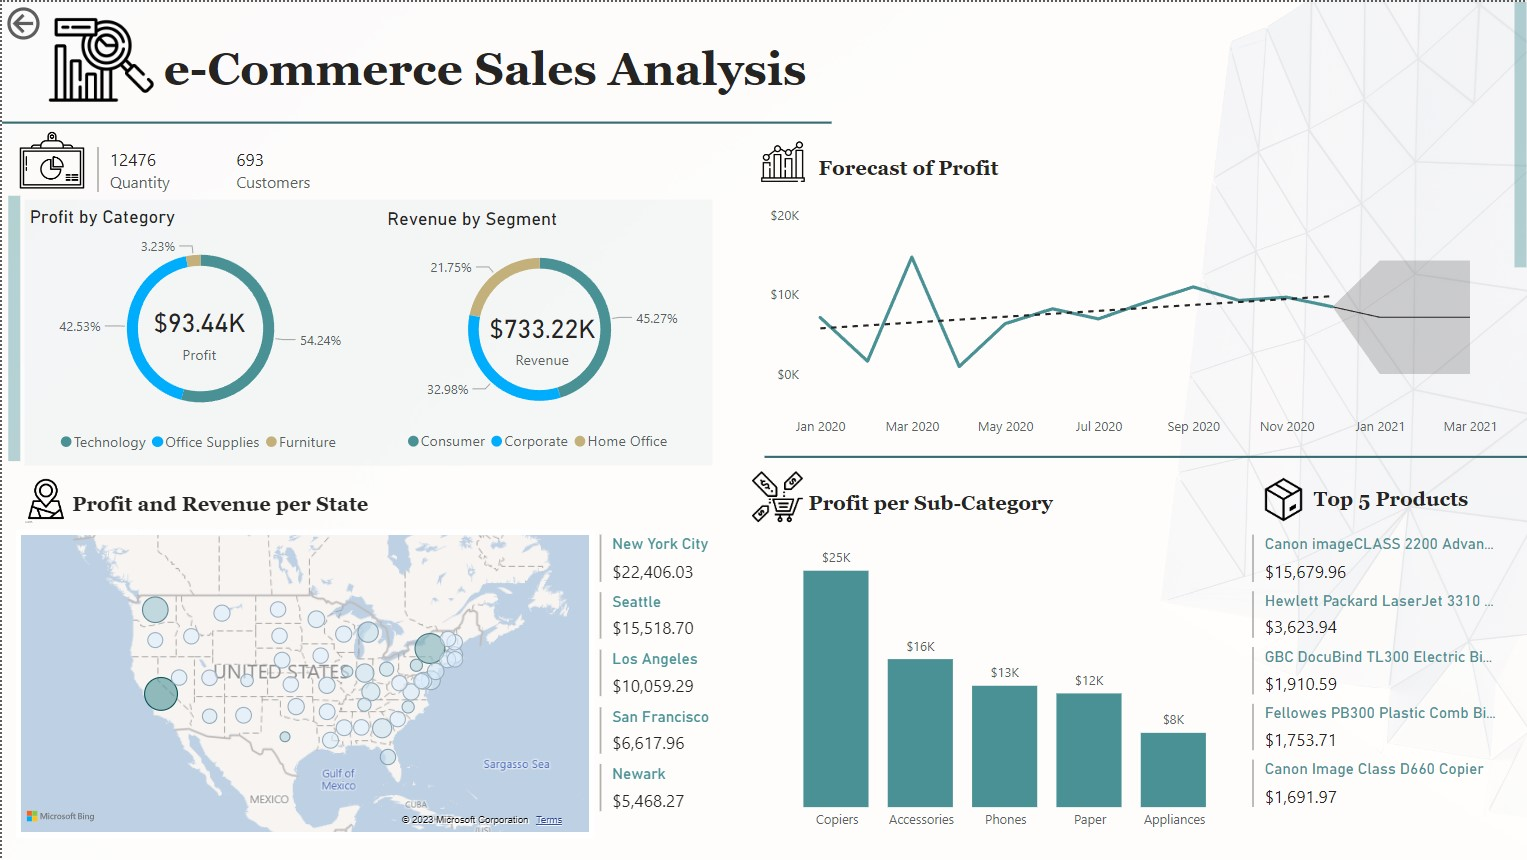

Layout of this report page (visuals, bound fields, positions):
{"tool":"powerbi","page":{"name":"Page 1","canvas":[1420,800],"ordinal":0},"visuals":[{"type":"shape","box":[20.8,183.8,640.8,247.7],"z":0},{"type":"donutChart","fields":{"Category":["eCommerce.Category"],"Y":["Sum(eCommerce.Profit)"]},"box":[20.9,190.1,328,238.8],"z":0,"group":"g3"},{"type":"lineChart","fields":{"Y":["Sum(eCommerce.Profit)"],"Category":["Calendar.Date.Variation.Date Hierarchy.Year","Calendar.Date.Variation.Date Hierarchy.Month"]},"box":[710,185.7,688.6,228.6],"z":1000},{"type":"multiRowCard","fields":{"Values":["Sum(eCommerce.Quantity)","eCommerce.Customer ID"]},"box":[84.3,130,257.1,54.3],"z":2000},{"type":"group","id":"g1","title":"Group 3","box":[12.9,491.4,539.1,286.9],"z":2000,"group":"g6"},{"type":"map","title":"Revenue by State","fields":{"Category":["eCommerce.State","eCommerce.City"],"Size":["Sum(eCommerce.Profit)"]},"box":[12.9,491.4,539.1,286.9],"z":2000,"group":"g1"},{"type":"textbox","box":[756,139.2,255.2,32.3],"z":3000,"group":"g2"},{"type":"shape","box":[710,414.3,710,18.6],"z":3000},{"type":"textbox","box":[1217,448.9,164.3,32.9],"z":3000,"group":"g8"},{"type":"textbox","box":[746.5,452.4,262.9,35.7],"z":3000,"group":"g7"},{"type":"textbox","box":[60.6,453.1,298.6,34.3],"z":3000,"group":"g9"},{"type":"multiRowCard","fields":{"Values":["eCommerce.City","Sum(eCommerce.Profit)"]},"box":[552,491.4,127.6,297],"z":3000,"group":"g6"},{"type":"group","id":"g2","title":"Group 1","box":[696.8,117.4,314.3,62.9],"z":4000},{"type":"clusteredColumnChart","fields":{"Category":["eCommerce.Sub Category"],"Y":["Sum(eCommerce.Profit)"]},"box":[710,490.8,450,290],"z":4000,"group":"g5"},{"type":"group","id":"g3","title":"Group 4","box":[20.9,190.1,328,238.8],"z":5000},{"type":"group","id":"g4","title":"Group 5","box":[354.3,192,293.7,236],"z":6000},{"type":"pieChart","fields":{"Category":["eCommerce.Segment"],"Y":["Sum(eCommerce.Sales)"]},"box":[354.3,192,293.7,236],"z":6000,"group":"g4"},{"type":"card","fields":{"Values":["Sum(eCommerce.Profit)"]},"box":[124.3,264.3,118.9,85.6],"z":7000,"group":"g3"},{"type":"group","id":"g5","title":"Group 6","box":[710,490.8,688.6,290.3],"z":7000},{"type":"multiRowCard","fields":{"Values":["eCommerce.Product Name","Sum(eCommerce.Profit)"]},"box":[1160,491.1,238.6,290],"z":7000,"group":"g5"},{"type":"card","fields":{"Values":["Sum(eCommerce.Sales)"]},"box":[444.3,268.8,119.4,86.4],"z":8000,"group":"g4"},{"type":"group","id":"g6","title":"Group 7","box":[12.9,491.4,665.7,295.7],"z":8000},{"type":"image","box":[683.6,431,77.1,64.3],"z":8002,"group":"g7"},{"type":"group","id":"g7","title":"Group 8","box":[683.6,431,325.7,64.3],"z":9000},{"type":"group","id":"g8","title":"Group 9","box":[1158.4,436,222.9,67.1],"z":10000},{"type":"image","box":[1158.4,436,70,67.1],"z":10001,"group":"g8"},{"type":"shape","box":[0,105.7,772.9,12.9],"z":11000},{"type":"image","box":[696.8,117.4,62.9,62.9],"z":11001,"group":"g2"},{"type":"image","box":[12,436,58.6,64.3],"z":11003,"group":"g9"},{"type":"image","box":[12.9,0,117.1,107.1],"z":12000},{"type":"group","id":"g9","title":"Group 2","box":[12,436,347.1,64.3],"z":13000},{"type":"image","box":[0,101.4,92.9,95.7],"z":14000},{"type":"textbox","box":[134.3,38.6,627.1,68.6],"z":15000},{"type":"shape","box":[5.7,180,11.4,247.1],"z":16000},{"type":"shape","box":[1408.6,0,11.4,247.1],"z":17000},{"type":"textbox","box":[811.4,36.1,586.9,87.7],"z":17001}]}

Visuals, with their boxes in screenshot pixels (x1, y1, x2, y2), scaled from the page's 1420x800 canvas onto the 1527x860 screenshot:
shape: (22,198,711,464)
donutChart - eCommerce.Category x Sum(eCommerce.Profit): (22,204,375,461)
lineChart - Sum(eCommerce.Profit) x Calendar.Date.Variation.Date Hierarchy.Year: (764,200,1504,445)
multiRowCard - Sum(eCommerce.Quantity) x eCommerce.Customer ID: (91,140,367,198)
"Group 3" group: (14,528,594,837)
"Revenue by State" map: (14,528,594,837)
textbox: (813,150,1087,184)
shape: (764,445,1526,465)
textbox: (1309,483,1485,518)
textbox: (803,486,1085,525)
textbox: (65,487,386,524)
multiRowCard - eCommerce.City x Sum(eCommerce.Profit): (594,528,731,848)
"Group 1" group: (749,126,1087,194)
clusteredColumnChart - eCommerce.Sub Category x Sum(eCommerce.Profit): (764,528,1247,839)
"Group 4" group: (22,204,375,461)
"Group 5" group: (381,206,697,460)
pieChart - eCommerce.Segment x Sum(eCommerce.Sales): (381,206,697,460)
card - Sum(eCommerce.Profit): (134,284,262,376)
"Group 6" group: (764,528,1504,840)
multiRowCard - eCommerce.Product Name x Sum(eCommerce.Profit): (1247,528,1504,840)
card - Sum(eCommerce.Sales): (478,289,606,382)
"Group 7" group: (14,528,730,846)
image: (735,463,818,532)
"Group 8" group: (735,463,1085,532)
"Group 9" group: (1246,469,1485,541)
image: (1246,469,1321,541)
shape: (0,114,831,127)
image: (749,126,817,194)
image: (13,469,76,538)
image: (14,0,140,115)
"Group 2" group: (13,469,386,538)
image: (0,109,100,212)
textbox: (144,41,819,115)
shape: (6,194,18,459)
shape: (1515,0,1526,266)
textbox: (873,39,1504,133)
